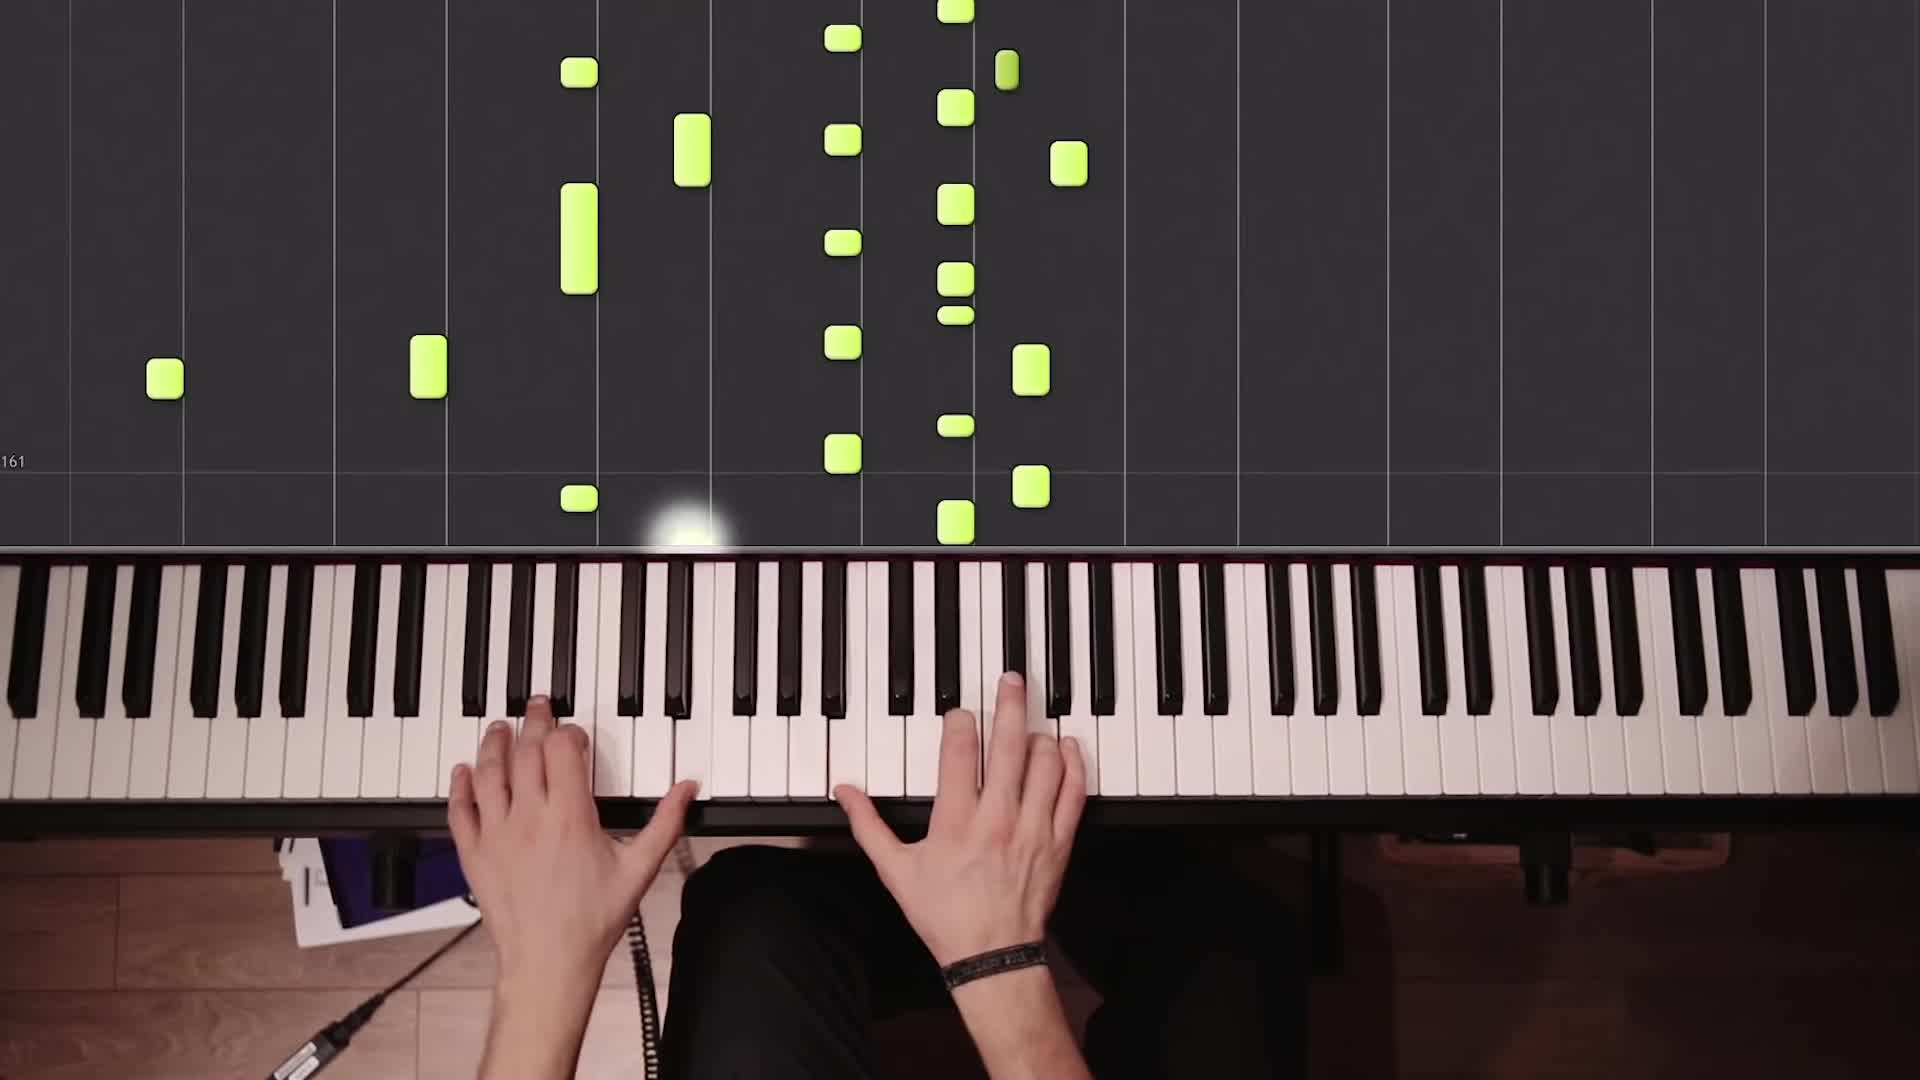left: (447, 688, 698, 942)
right: (832, 670, 1087, 945)
